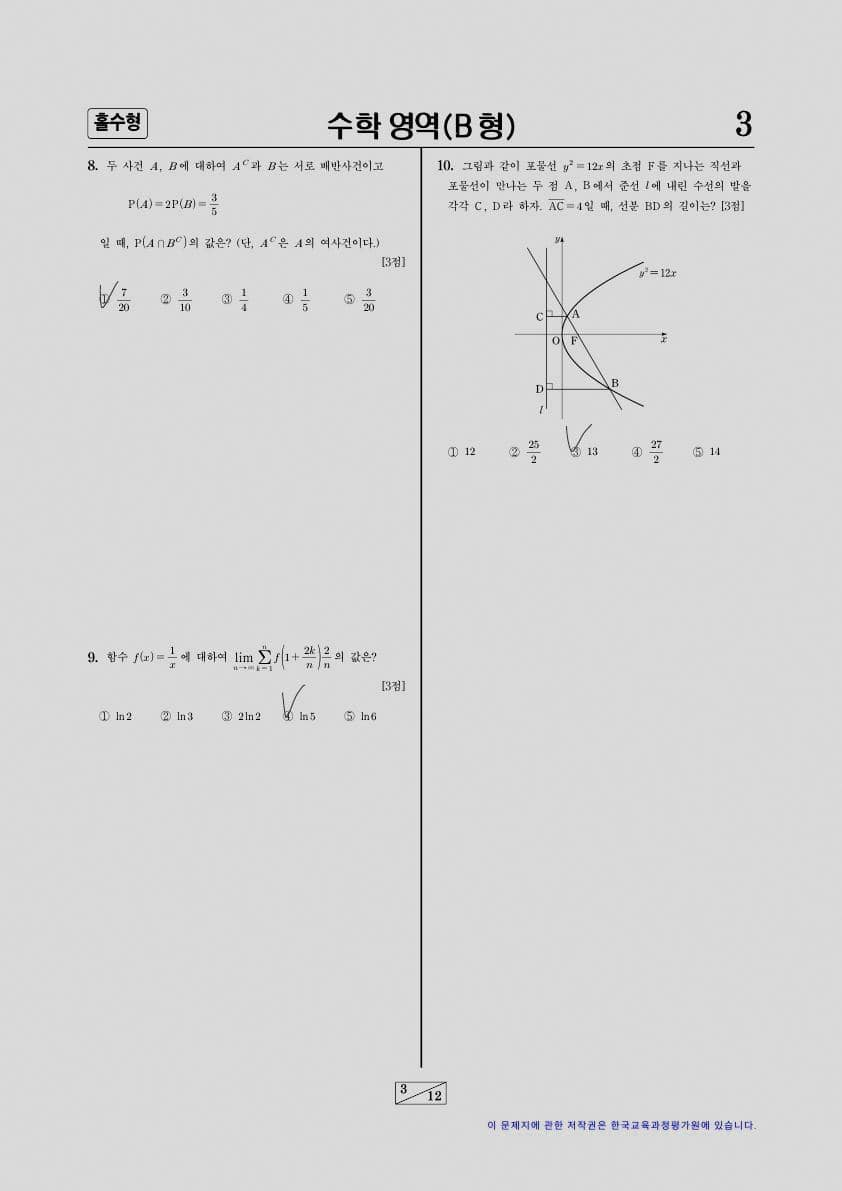question: (421, 149, 762, 482), (72, 153, 417, 325), (68, 634, 417, 738)
